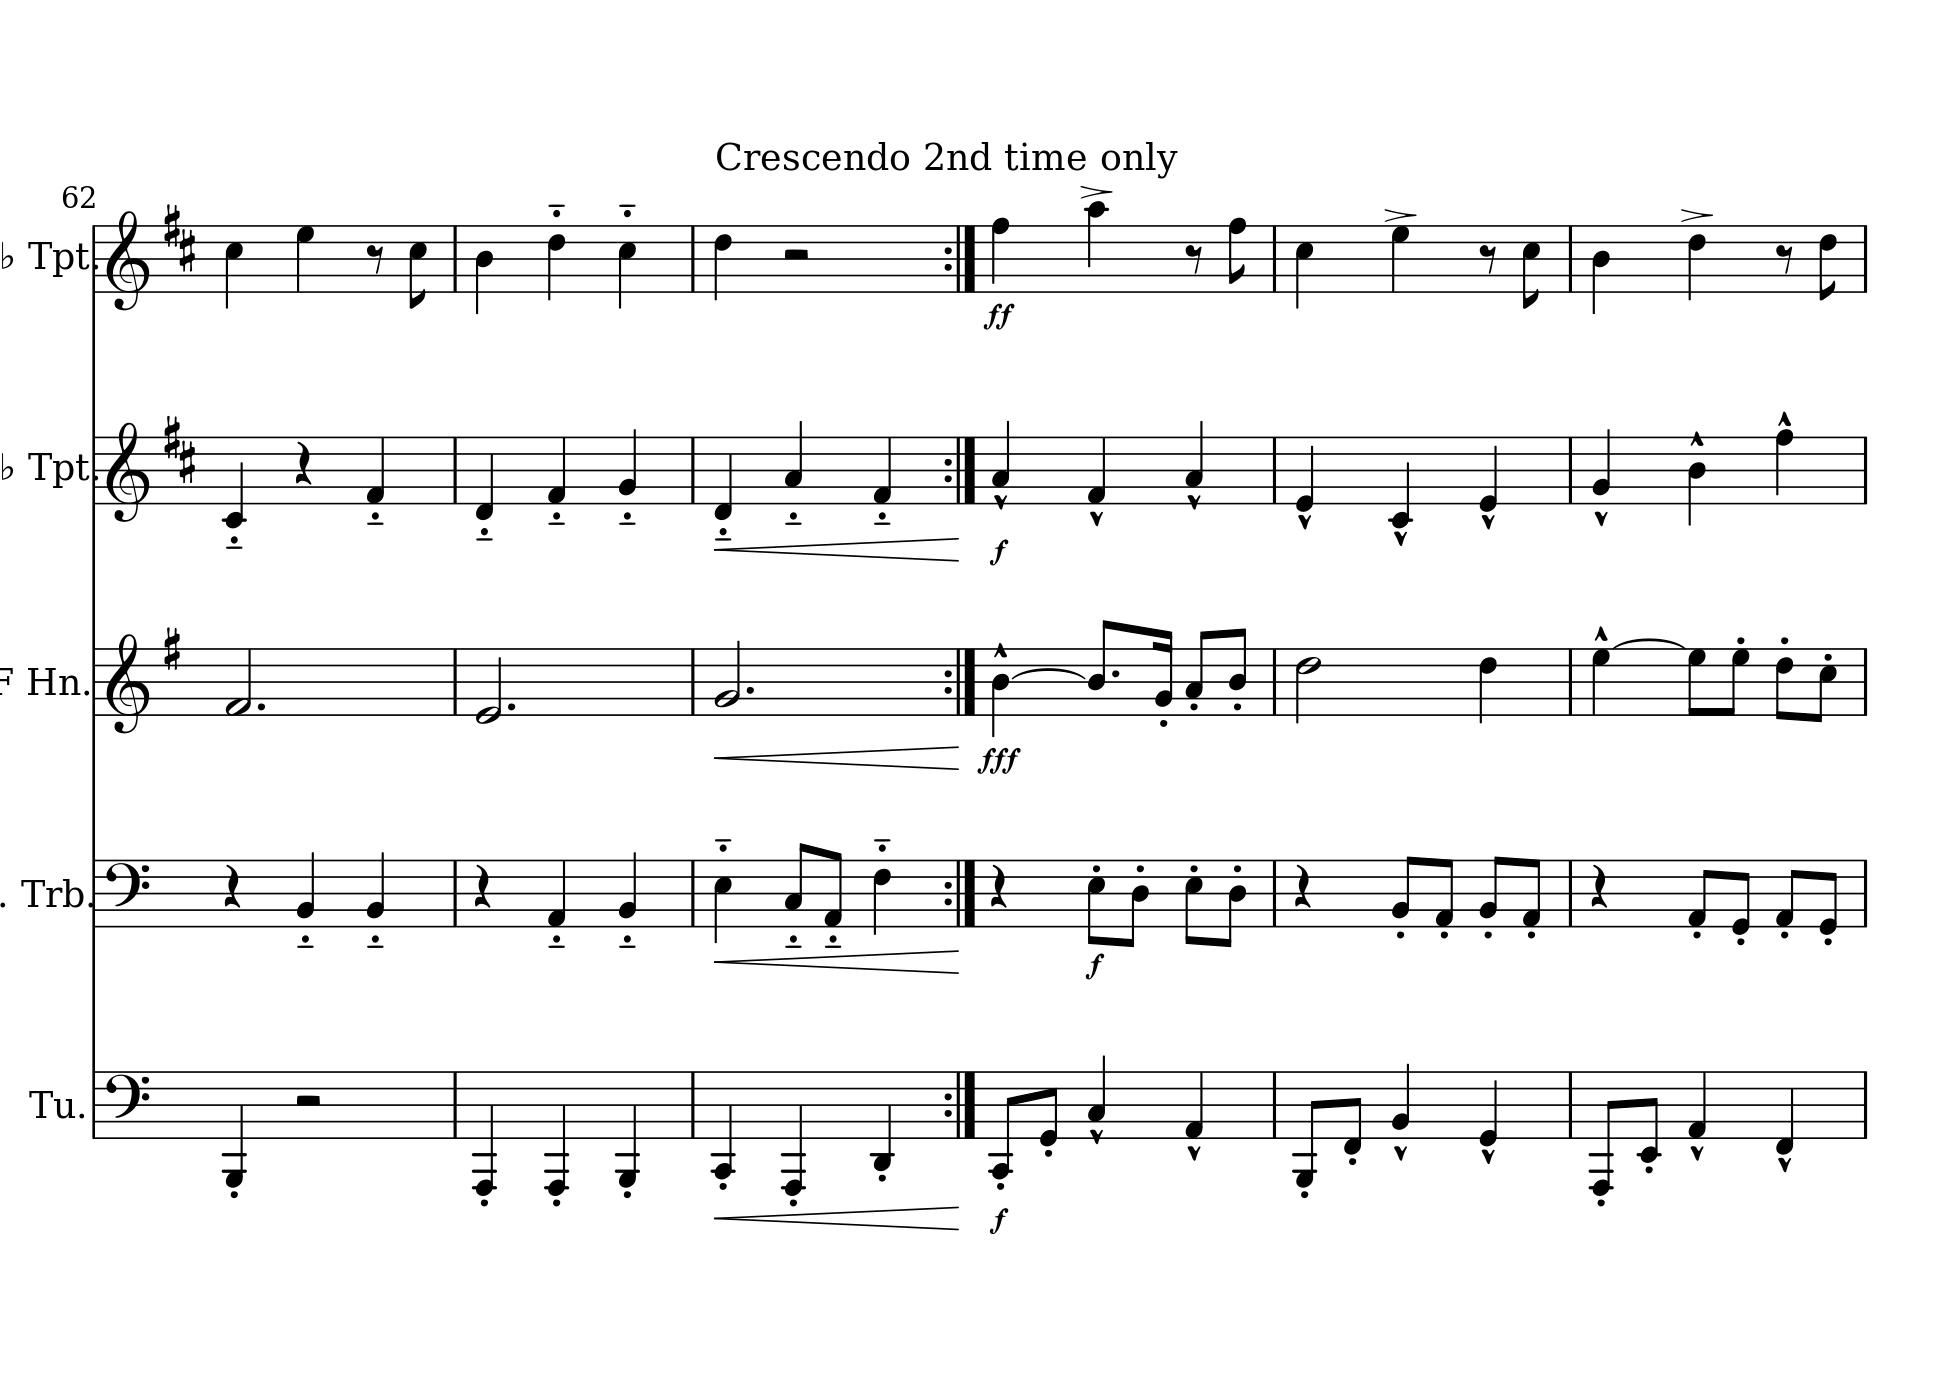16_2: (1152, 627, 1174, 717)
2: (78, 183, 97, 208)
2_0: (472, 645, 502, 724)
2_1: (223, 646, 253, 718)
2_2: (712, 637, 742, 715)
2_6: (1294, 646, 1320, 724)
4_-1: (1773, 1068, 1797, 1155), (472, 433, 495, 520), (712, 433, 733, 520)
4_-2: (220, 433, 247, 529), (1389, 433, 1413, 529)
4_-3: (868, 1066, 894, 1174)
4_-4: (708, 1068, 738, 1179)
4_-5: (613, 1066, 642, 1189), (220, 1066, 249, 1186)
4_-6: (469, 1066, 499, 1195), (541, 1066, 571, 1195), (778, 1068, 808, 1195)
4_0: (1293, 433, 1315, 511), (1477, 433, 1500, 511), (1477, 1068, 1500, 1146)
4_1: (544, 433, 568, 505), (544, 856, 568, 928), (1182, 1069, 1206, 1140), (1684, 1069, 1708, 1140), (364, 435, 385, 505), (871, 435, 892, 505), (1086, 435, 1107, 505)
4_10: (1083, 199, 1111, 295)
4_2: (1590, 427, 1614, 505), (1389, 1060, 1413, 1138), (616, 847, 639, 927), (616, 426, 639, 504), (364, 849, 387, 927), (295, 847, 316, 927)
4_3: (990, 418, 1012, 505), (783, 418, 805, 504), (1183, 420, 1206, 505), (1086, 1054, 1107, 1140)
4_4: (990, 646, 1014, 738), (1686, 433, 1708, 528), (472, 223, 495, 316), (1590, 223, 1612, 316)
4_5: (1293, 223, 1315, 310), (223, 223, 244, 310), (616, 223, 637, 310), (712, 858, 733, 945)
4_6: (1686, 223, 1710, 304), (544, 223, 567, 304), (1477, 646, 1498, 726), (871, 858, 892, 937), (712, 223, 733, 301)
4_7: (1389, 223, 1413, 294), (1590, 646, 1614, 717), (294, 223, 316, 294)
4_8: (990, 214, 1014, 295), (1773, 427, 1797, 507)
6: (61, 181, 79, 208)
8_-1: (1342, 1069, 1365, 1156)
8_-2: (1635, 1069, 1662, 1164)
8_-4: (987, 1069, 1017, 1180)
8_-5: (1291, 1068, 1320, 1186)
8_-6: (1588, 1068, 1617, 1198)
8_0: (1729, 858, 1753, 937), (1816, 858, 1839, 937), (1038, 1069, 1060, 1147)
8_1: (1684, 858, 1716, 930), (1773, 858, 1801, 930), (822, 847, 844, 930), (1519, 856, 1543, 930), (1432, 856, 1455, 930)
8_2: (1389, 853, 1419, 928), (1476, 853, 1506, 928)
8_3: (1183, 628, 1212, 717), (783, 840, 810, 928)
8_4: (1086, 616, 1116, 718), (1122, 859, 1152, 949), (1221, 859, 1248, 949), (1227, 625, 1248, 717)
8_5: (1812, 646, 1839, 724), (1084, 856, 1107, 946), (1182, 856, 1204, 946), (406, 223, 427, 310), (1521, 223, 1542, 310)
8_6: (1816, 223, 1839, 304), (1773, 646, 1795, 721)
8_7: (1722, 646, 1750, 717), (1686, 646, 1707, 717)
8_8: (1227, 214, 1248, 295)
Accent_above: (1077, 181, 1114, 199), (1678, 205, 1716, 223), (1383, 205, 1417, 222)
Crescendo_hairpin: (718, 1203, 963, 1234), (712, 946, 960, 976), (715, 744, 961, 774), (711, 538, 960, 564)
D_S: (162, 199, 196, 271), (162, 412, 196, 481)
Fclef: (103, 856, 151, 928), (103, 1069, 151, 1138)
Gclef: (105, 631, 151, 736), (105, 208, 148, 313), (106, 421, 150, 523)
Hn: (22, 661, 81, 703)
Marcato_above: (1776, 408, 1794, 427), (993, 490, 1011, 510), (1392, 526, 1411, 544), (1185, 1141, 1204, 1159), (1687, 1143, 1707, 1161), (1776, 1153, 1795, 1171), (1089, 508, 1107, 526), (1593, 508, 1611, 526), (1296, 511, 1314, 529), (1479, 511, 1497, 529), (1392, 1141, 1410, 1159), (1689, 429, 1705, 448), (1186, 490, 1203, 510), (1593, 624, 1609, 643), (1479, 1146, 1498, 1162), (1089, 1126, 1105, 1144)
Rests2: (291, 1090, 325, 1111), (778, 246, 813, 265)
Rests4: (469, 862, 493, 909), (220, 861, 243, 909), (987, 862, 1009, 910), (1587, 862, 1609, 909), (292, 439, 313, 486), (1291, 862, 1312, 909)
Rests8: (1774, 241, 1797, 276), (1183, 241, 1206, 274), (1477, 241, 1500, 274), (364, 241, 385, 274)
RightRepeatSign: (942, 646, 981, 715), (942, 223, 979, 292), (940, 859, 978, 927), (942, 435, 978, 502), (943, 1069, 978, 1138)
Sharp: (160, 624, 183, 673)
Single_barline: (1857, 223, 1875, 292), (1857, 435, 1875, 504), (1857, 646, 1875, 715), (1266, 646, 1284, 715), (1857, 1069, 1875, 1138), (1266, 223, 1284, 291), (445, 436, 463, 502), (1266, 436, 1284, 502), (684, 648, 702, 714), (1857, 859, 1873, 928), (1266, 1069, 1282, 1138), (1563, 1069, 1579, 1138), (1563, 646, 1579, 714), (87, 648, 103, 715), (447, 648, 463, 715), (1266, 859, 1282, 927), (447, 1071, 463, 1138), (684, 436, 700, 502), (1563, 859, 1579, 925), (87, 859, 103, 925), (447, 859, 463, 925), (88, 223, 103, 292), (448, 223, 463, 291), (1563, 435, 1578, 502), (685, 859, 700, 927), (87, 1071, 102, 1138), (685, 1071, 700, 1138), (685, 225, 700, 291), (88, 435, 102, 504)
Slur: (1011, 666, 1089, 681), (1563, 223, 1579, 292), (1608, 637, 1686, 649)
Staccatissimo: (991, 640, 1009, 658)
Tpt: (24, 445, 88, 490), (25, 235, 87, 277)
Trb: (18, 871, 84, 910)
dot: (742, 682, 757, 697), (504, 697, 517, 712), (253, 697, 265, 712), (1110, 666, 1122, 679)
f: (987, 537, 1014, 567), (1083, 951, 1107, 979), (987, 1207, 1011, 1234)
ff: (981, 300, 1017, 333)
fff: (975, 744, 1026, 778)
